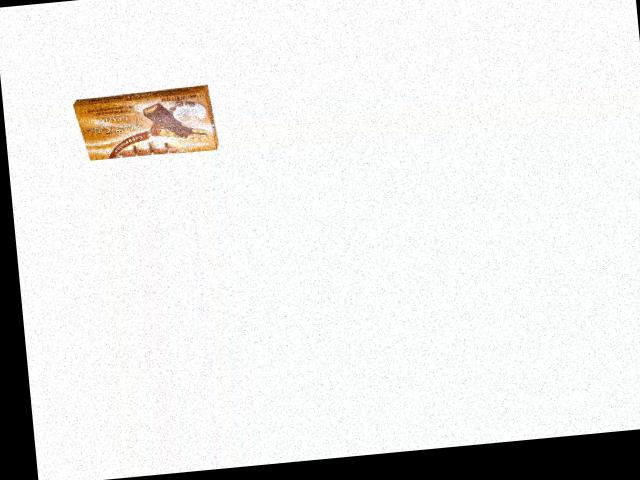chocolate: (69, 83, 219, 164)
